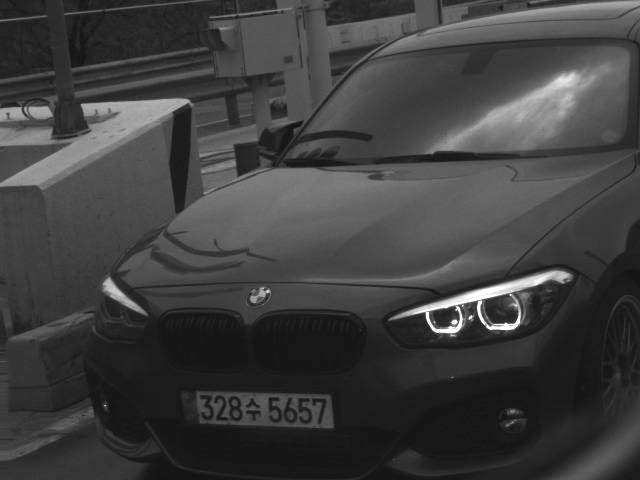car: (82, 1, 639, 479)
plate: (175, 388, 338, 431)
